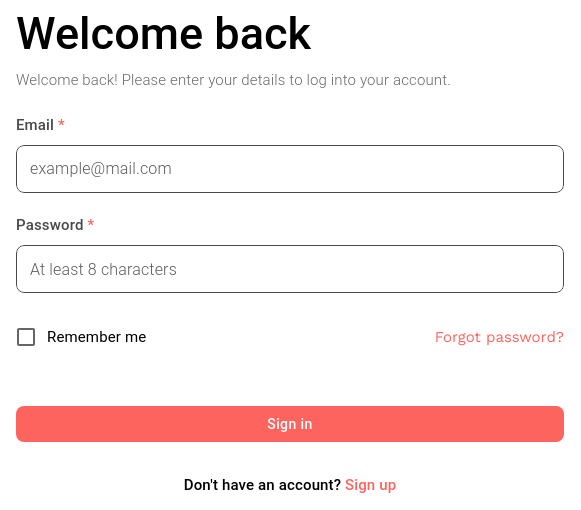
Test: SignIn Page › validates email format
This screenshot has width=581, height=510.
Type "invalid@email" into the field labelled "Email" at (290, 169), box [16,141,564,197]
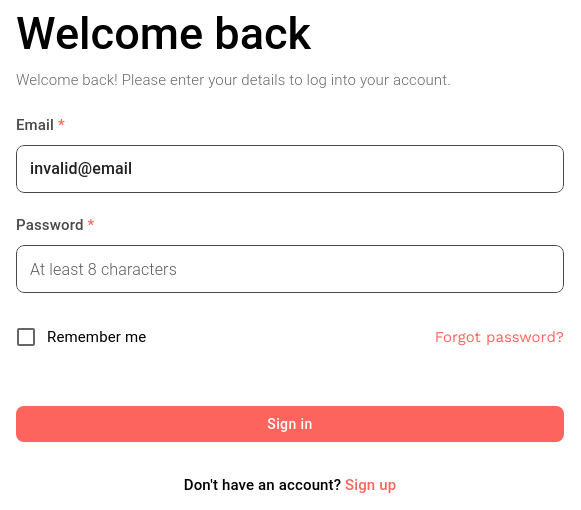
Click the button "Sign in" at (290, 424), box [16,406,564,442]
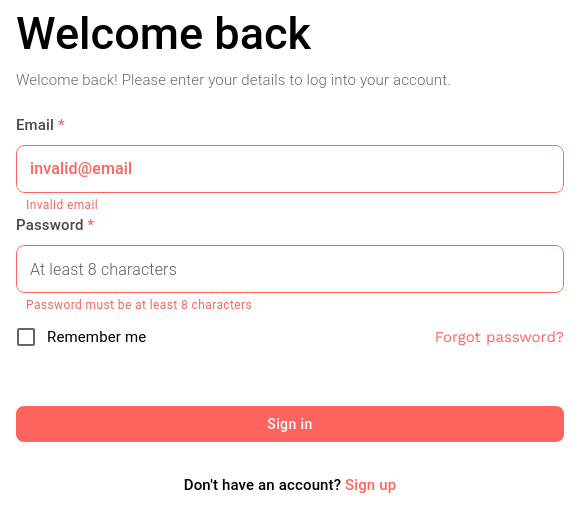
expect the text "Invalid email" is shown: met, box [26,198,98,212]
